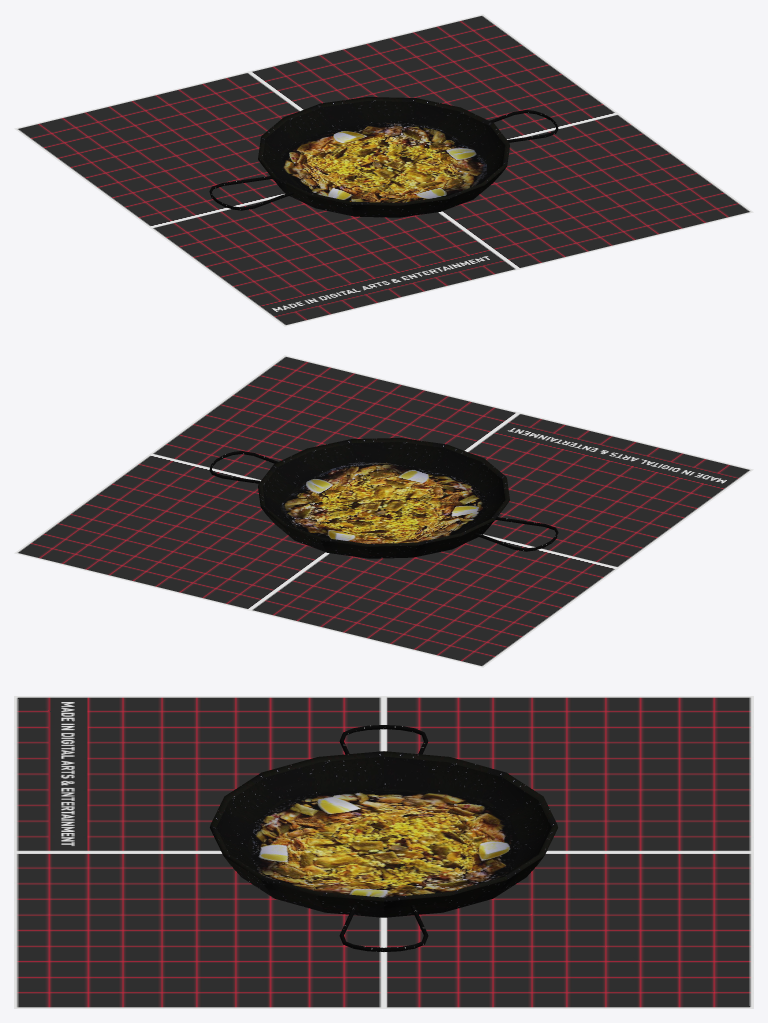
Rendered from paella.glb.
3 views of the same model, one above another, from view 1: azimuth 30°, elevation 25°; view 2: azimuth 150°, elevation 25°; view 3: azimuth 270°, elevation 25° (orthographic). The views are drawn at different scales.
Parts seen in each view (by area): view 1: Plane001, Paella; view 2: Plane001, Paella; view 3: Plane001, Paella.
Boxes of the visible parts, x1=… form: Plane001: x1=14, y1=14, x2=753, y2=326; Paella: x1=209, y1=97, x2=558, y2=217; Plane001: x1=14, y1=355, x2=753, y2=667; Paella: x1=209, y1=438, x2=558, y2=558; Plane001: x1=14, y1=696, x2=753, y2=1008; Paella: x1=210, y1=725, x2=557, y2=951.
Size of the model in its own units: 96.03 by 4.02 by 96.03.
Materials: 3 (3 with a texture image).
